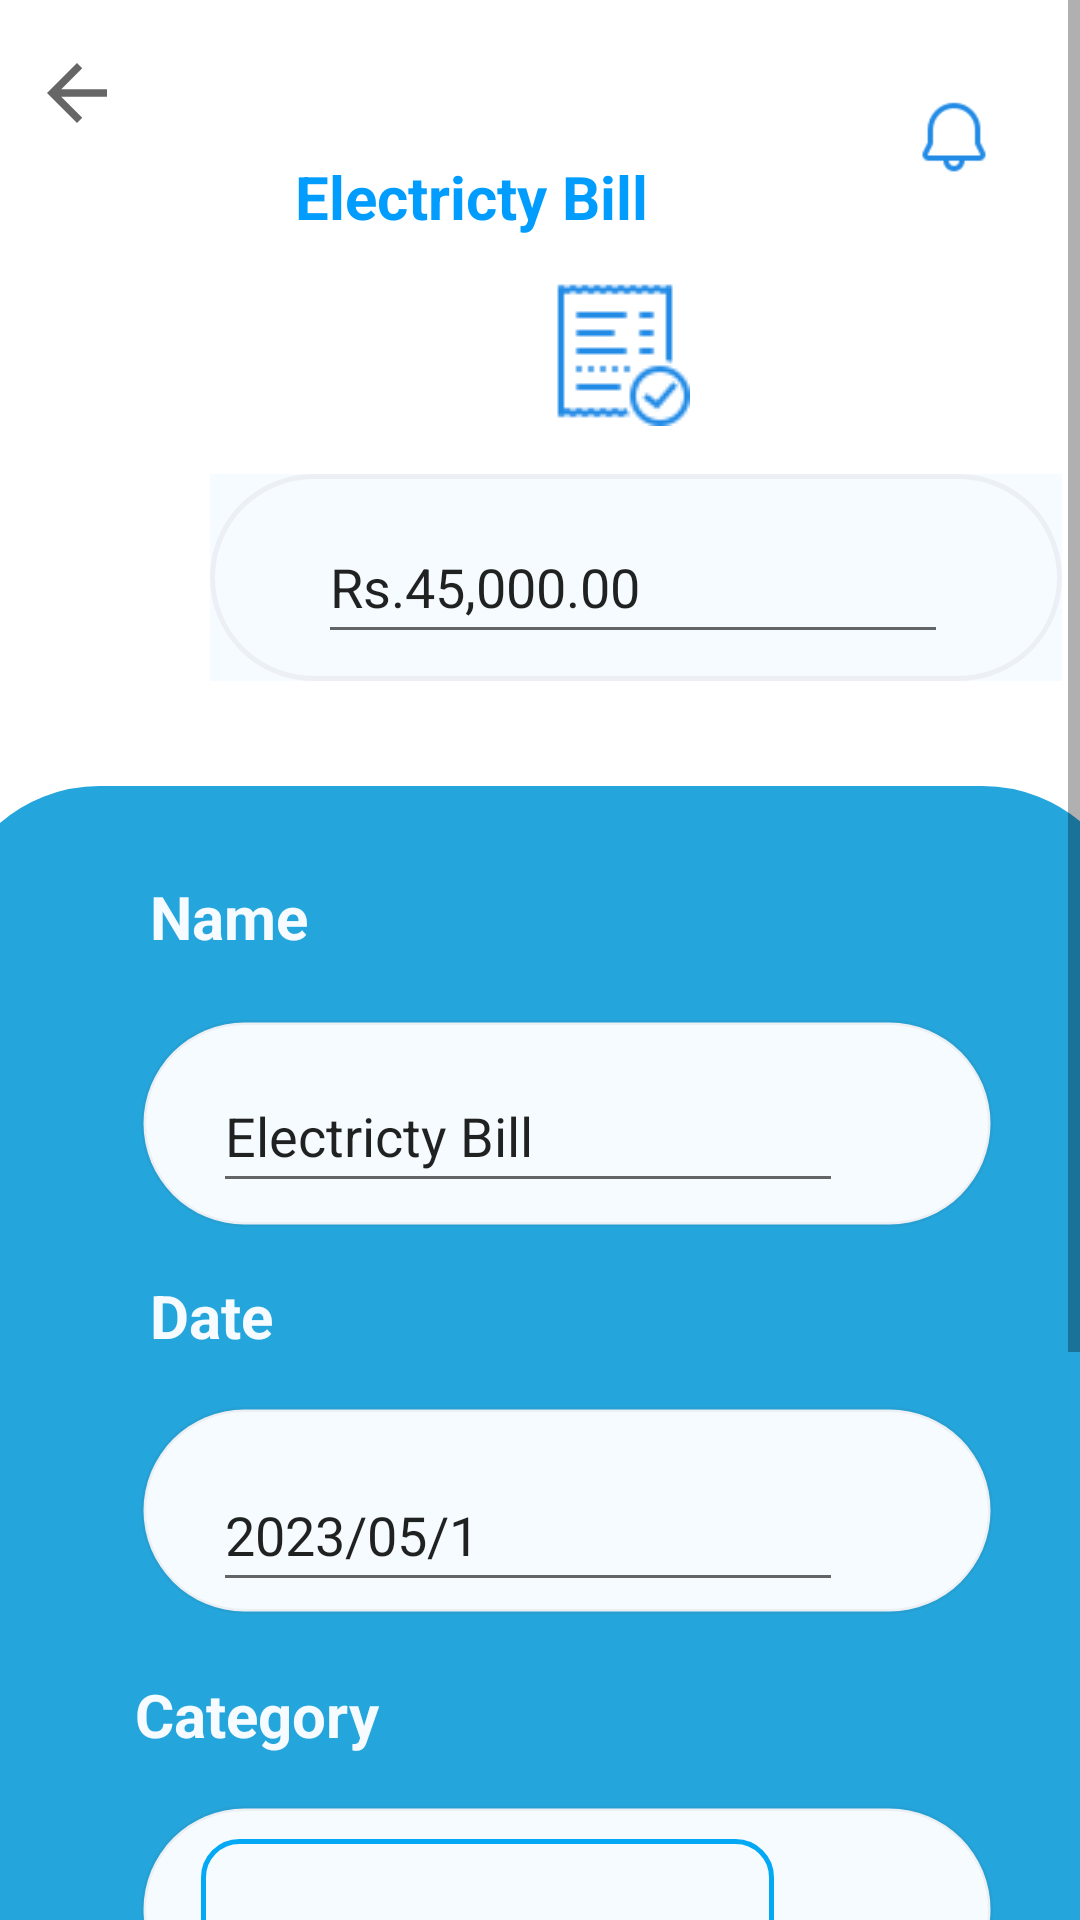

Named icons in this screenshot (1080 × 1920) and their centers, (x,y):
elec bill: (623,355)
notfy: (954,137)
